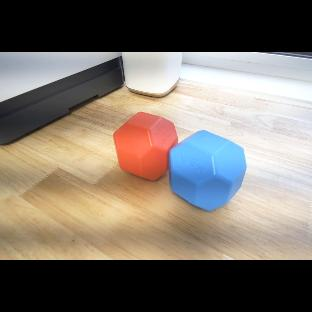V5_BLUE: (171, 130, 247, 211)
V5_RED: (113, 110, 169, 182)
